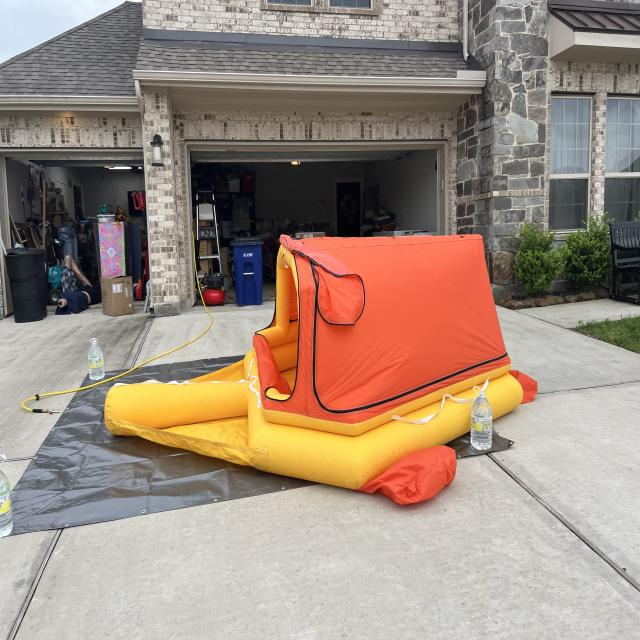Multi-person_life_raft: (104, 232, 537, 508)
